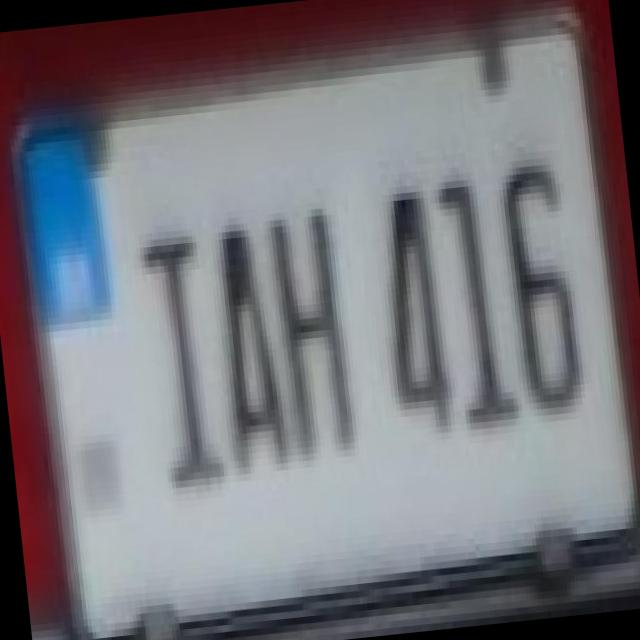1: (109, 200, 228, 492), (414, 136, 524, 433)
4: (350, 149, 460, 446)
6: (482, 128, 597, 412)
A: (188, 194, 296, 476)
H: (244, 180, 366, 463)
